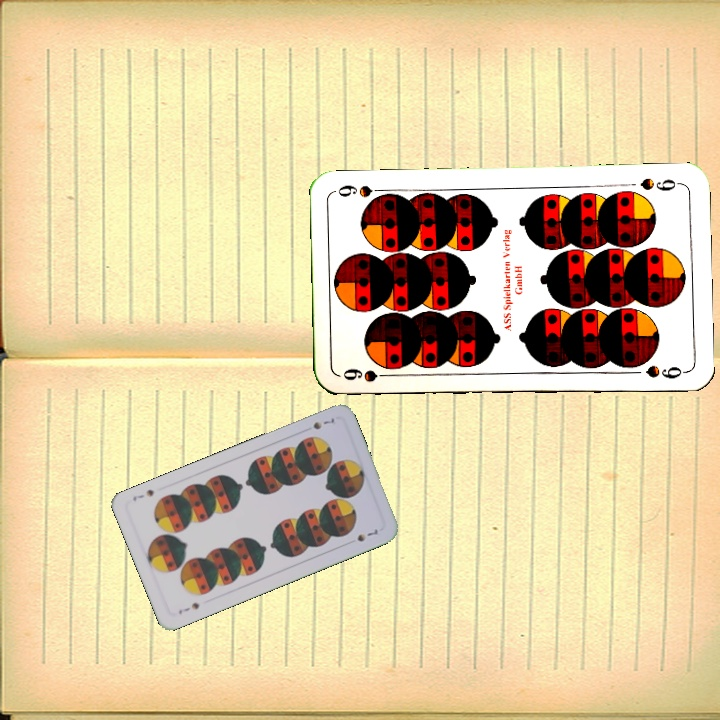S7: (309, 414, 338, 432), (174, 599, 202, 617)
S9: (339, 364, 398, 385), (636, 174, 683, 194)
